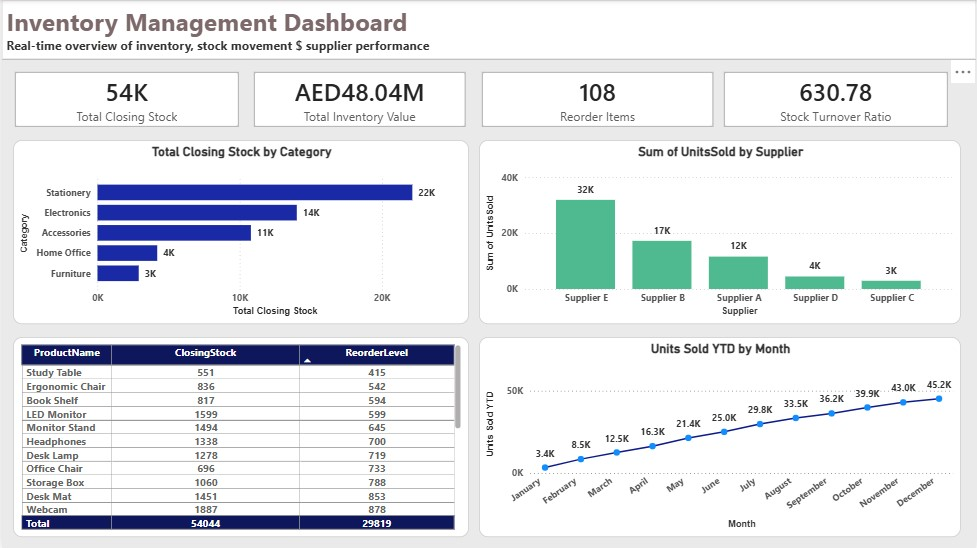

The page's visual inventory and layout, read from the dashboard file:
{"tool":"powerbi","page":{"name":"Page 1","canvas":[1280,720],"ordinal":0},"visuals":[{"type":"cardVisual","fields":{"Data":["Inventory.Total Closing Stock"]},"box":[0,77.5,328.5,106.4],"z":0},{"type":"cardVisual","fields":{"Data":["Inventory.Total Inventory Value"]},"box":[314,77.5,312.7,106.4],"z":1000},{"type":"cardVisual","fields":{"Data":["Inventory.Reorder Items"]},"box":[613.6,77.5,339,106.4],"z":2000},{"type":"cardVisual","fields":{"Data":["Inventory.Stock Turnover Ratio"]},"box":[931.5,77.5,328.5,106.4],"z":3000},{"type":"clusteredBarChart","fields":{"Category":["Inventory.Category"],"Y":["Inventory.Total Closing Stock"]},"box":[14.5,183.9,599.1,241.8],"z":4000},{"type":"clusteredColumnChart","fields":{"Category":["Inventory.Supplier"],"Y":["Sum(Inventory.UnitsSold)"]},"box":[626.7,183.9,633.3,241.8],"z":5000},{"type":"tableEx","fields":{"Values":["Inventory.ProductName","Sum(Inventory.ClosingStock)","Sum(Inventory.ReorderLevel)"]},"box":[14.5,442.8,599.1,262.8],"z":6000},{"type":"lineChart","fields":{"Category":["Date.Date.Variation.Date Hierarchy.Month"],"Y":["Inventory.Units Sold YTD"]},"box":[626.7,442.8,633.3,262.8],"z":7000},{"type":"textbox","box":[0,0,1279.7,77.5],"z":8000}]}

Visuals, with their boxes in screenshot pixels (x1, y1, x2, y2), scaled from the page's 1280x720 canvas onto the 977x548 screenshot:
cardVisual - Inventory.Total Closing Stock: box(0, 59, 251, 140)
cardVisual - Inventory.Total Inventory Value: box(240, 59, 478, 140)
cardVisual - Inventory.Reorder Items: box(468, 59, 727, 140)
cardVisual - Inventory.Stock Turnover Ratio: box(711, 59, 962, 140)
clusteredBarChart - Inventory.Category x Inventory.Total Closing Stock: box(11, 140, 468, 324)
clusteredColumnChart - Inventory.Supplier x Sum(Inventory.UnitsSold): box(478, 140, 962, 324)
tableEx - Inventory.ProductName x Sum(Inventory.ClosingStock): box(11, 337, 468, 537)
lineChart - Date.Date.Variation.Date Hierarchy.Month x Inventory.Units Sold YTD: box(478, 337, 962, 537)
textbox: box(0, 0, 976, 59)
